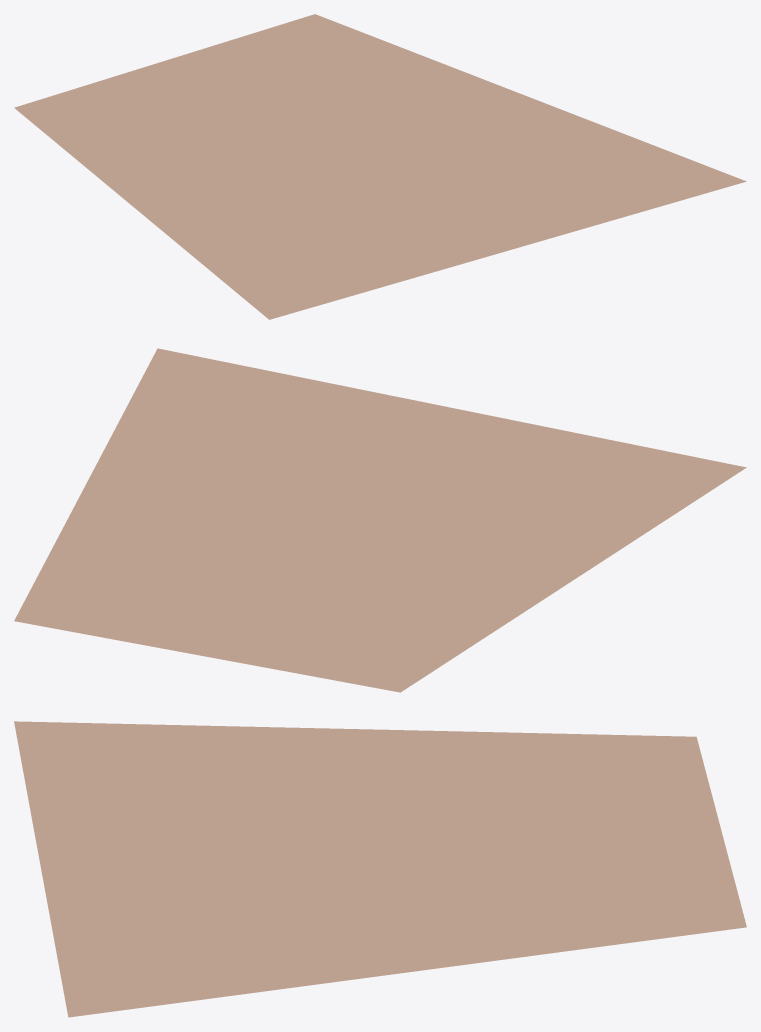
3 views of the same model, one above another, from view 1: azimuth 30°, elevation 25°; view 2: azimuth 150°, elevation 25°; view 3: azimuth 270°, elevation 25° (orthographic). The views are drawn at different scales.
Visible parts, largest first — view 1: PROJECT_BDY; view 2: PROJECT_BDY; view 3: PROJECT_BDY.
Boxes of the visible parts, x1,y1,x2,y2 form: PROJECT_BDY: [14, 14, 746, 319]; PROJECT_BDY: [14, 348, 746, 692]; PROJECT_BDY: [14, 721, 746, 1017].
Size of the model in its own units: 21.75 by 5.05e-15 by 22.75.
